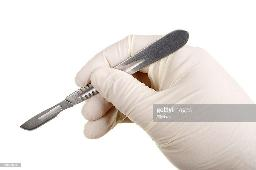scalpel: (19, 29, 189, 131)
